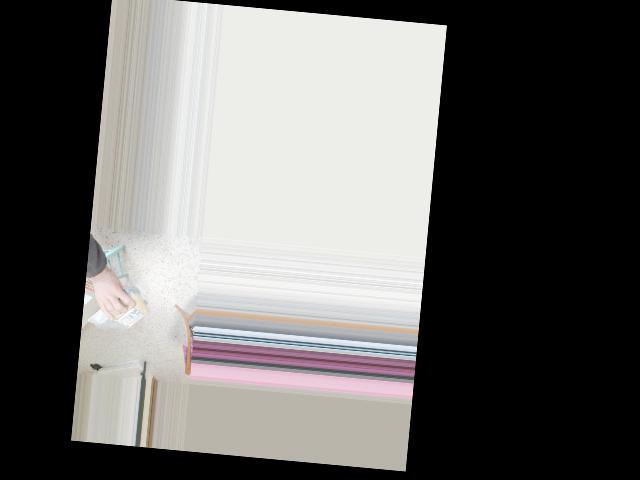cheese: (85, 292, 149, 331)
